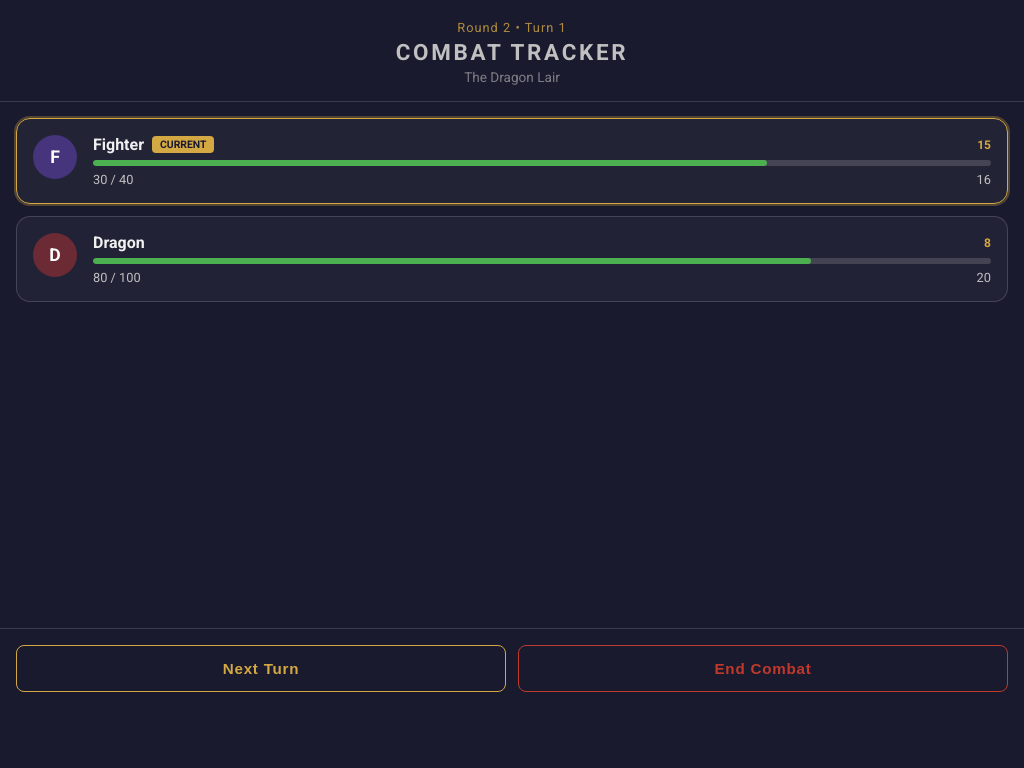
it: CombatActiveComponent › shows end combat dialog when End Combat is clicked
The image size is (1024, 768).
Click the button "End Combat": (763, 668) 518,645 -> 1008,692
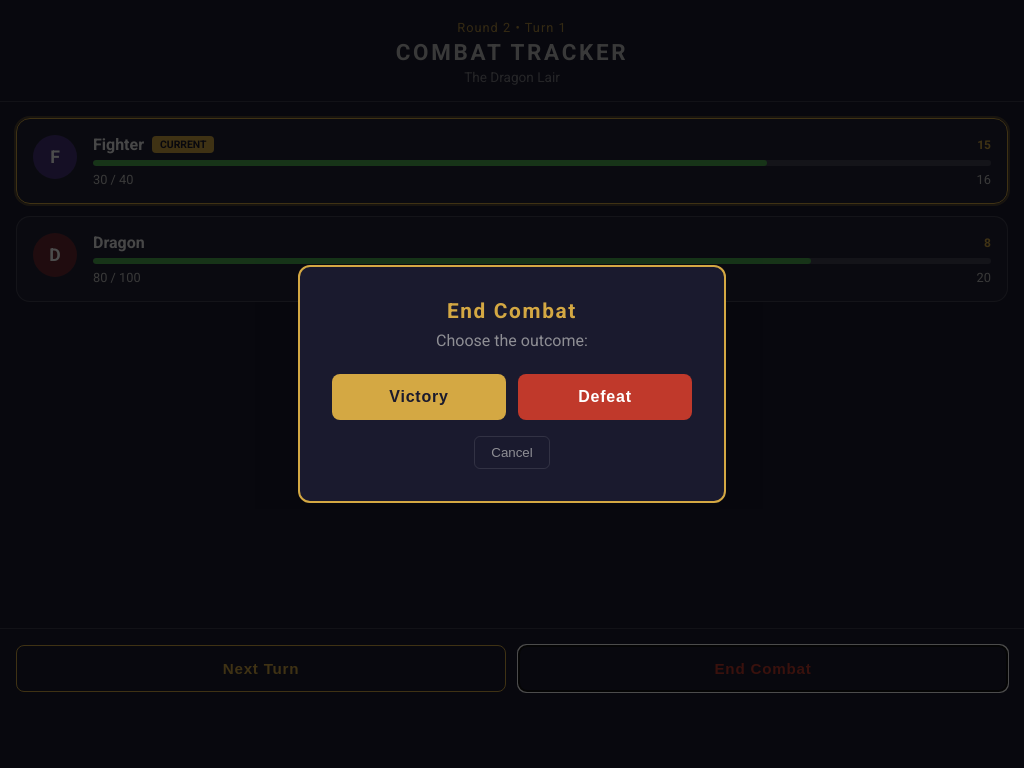
Expected: the button "Victory" is shown, 332,374 -> 506,420
